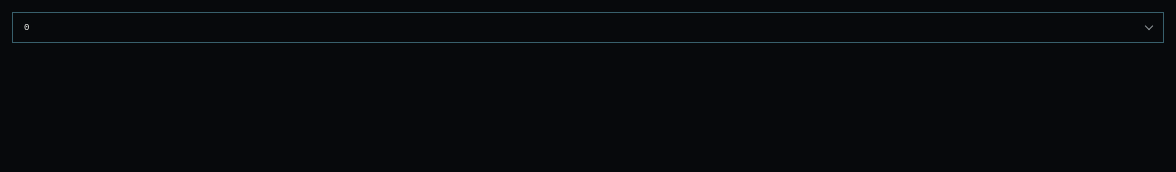
it: DarkSelect › emits a selection and closes the listbox
Click the button named "Field strength": [27, 28] box top-left (12, 12), bottom-right (1164, 43)
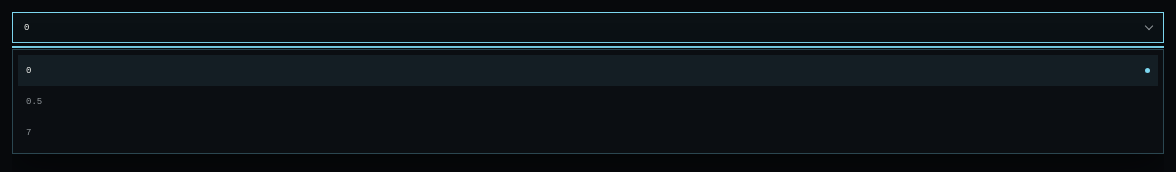
Click the option "7": [29, 132] box top-left (18, 117), bottom-right (1158, 148)
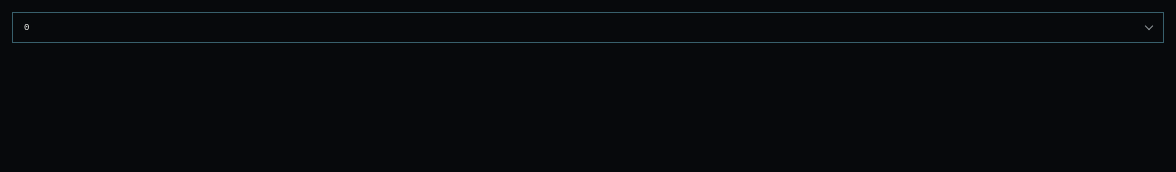
Expected: the list is gone
